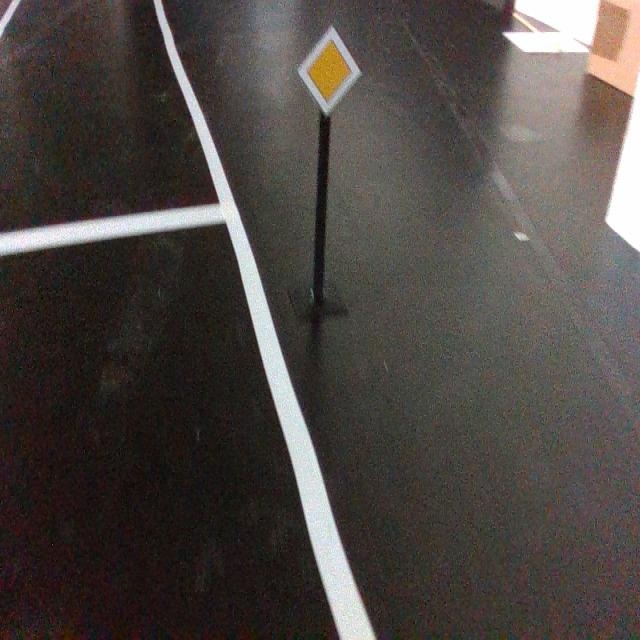priority-sign: (296, 23, 362, 118)
